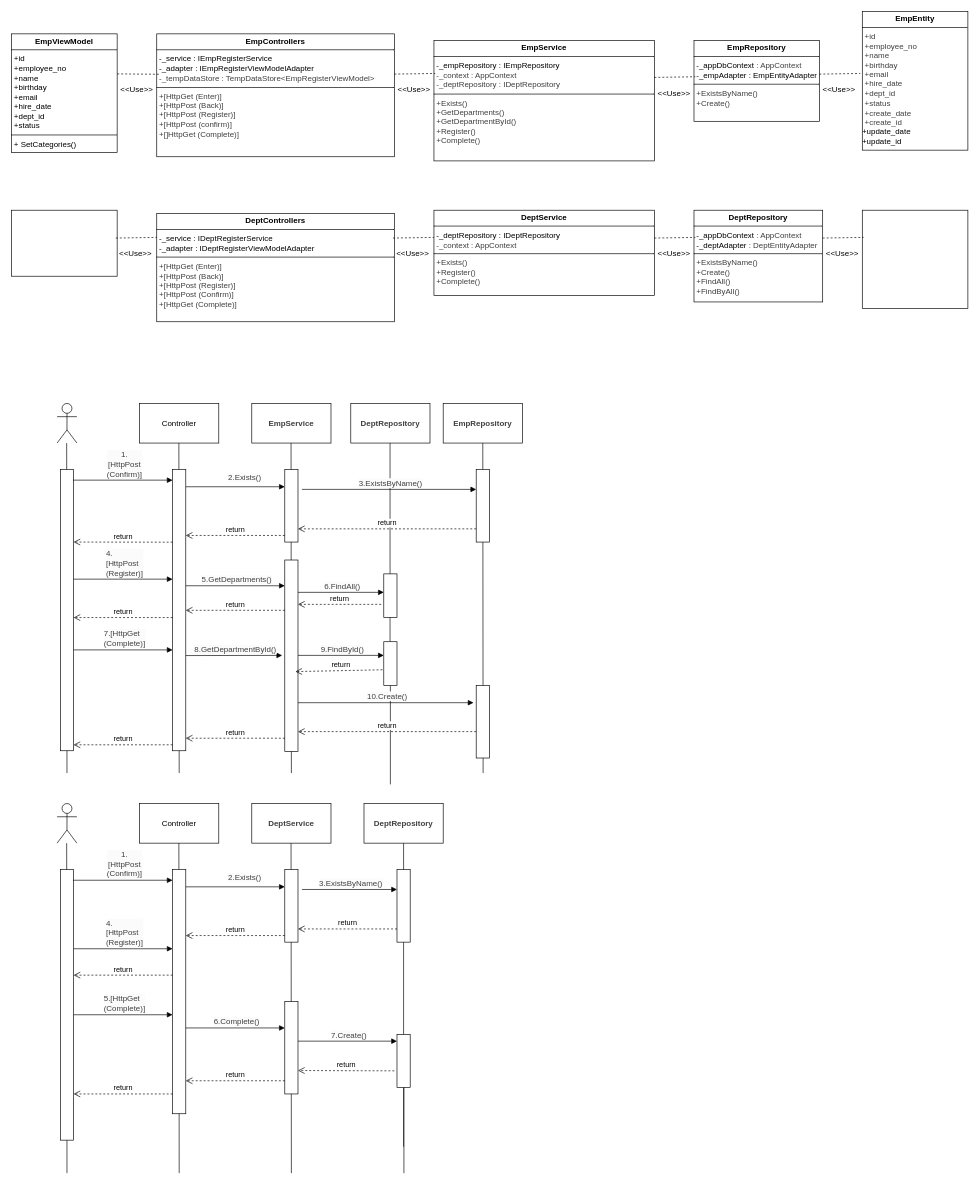
Image size: 979x1185. Some labels were removed from this diagram. The box of each missing label's shape, as (x1, y1, x2, y2) in pixels:
DeptEntity +id +name +create_date +create_id +update_date +update_id: (862, 210, 968, 308)
DeptViewModel +id +name: (11, 210, 117, 276)
